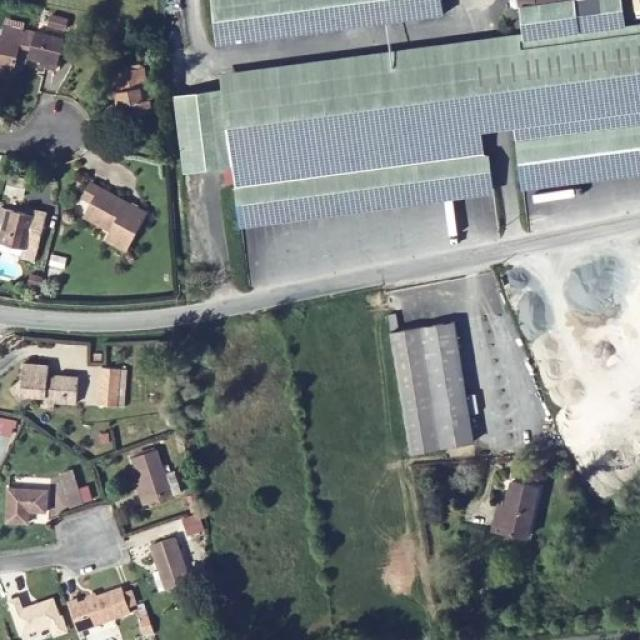maison: (68, 164, 146, 255), (0, 343, 86, 420), (469, 468, 554, 544), (58, 582, 157, 640), (75, 345, 144, 412), (145, 528, 204, 603), (0, 577, 69, 640), (0, 15, 77, 67), (0, 190, 57, 258), (122, 440, 172, 504), (2, 480, 48, 530), (102, 56, 144, 110)
piscine: (0, 255, 33, 286)
usine: (164, 0, 640, 268), (382, 290, 502, 470)
